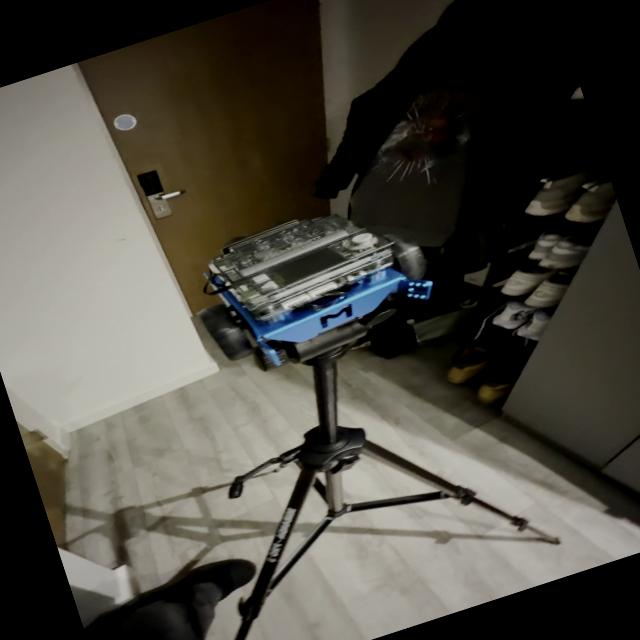mbot-detection: (168, 175, 450, 394)
